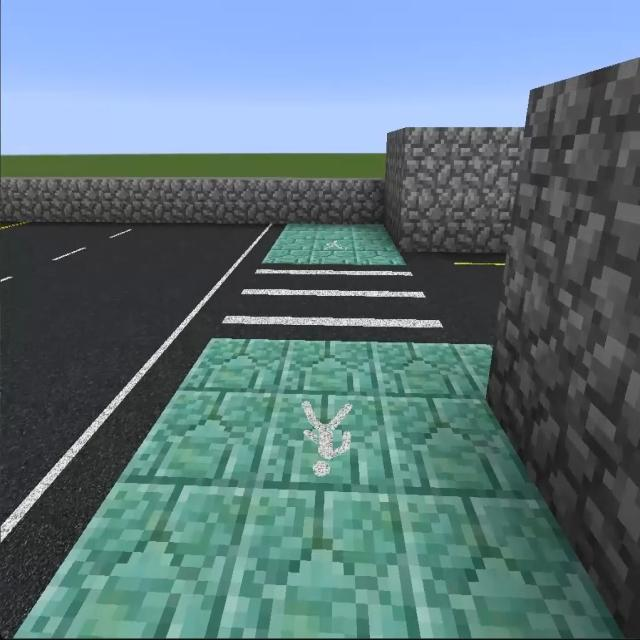crosswalk: (211, 266, 451, 343)
road: (0, 221, 285, 639), (401, 250, 506, 343)
sidewalk: (12, 338, 628, 639), (262, 223, 407, 266)
